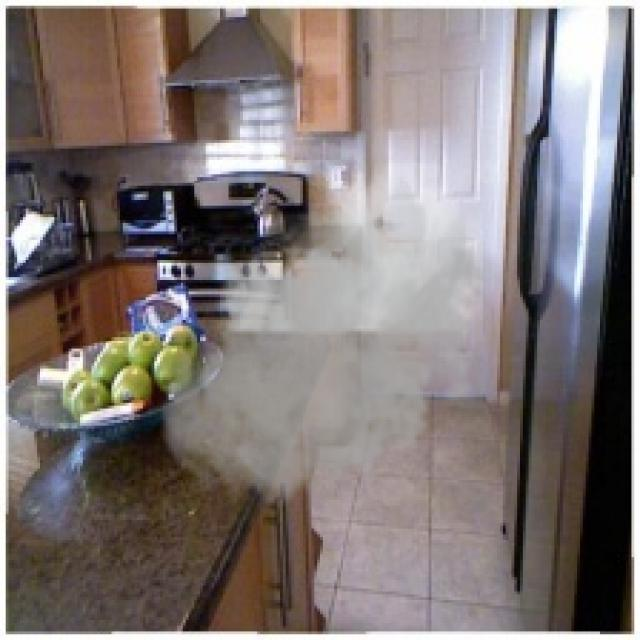Smoke: (154, 163, 497, 520)
